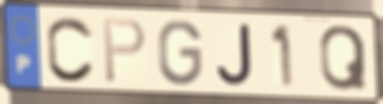1: (268, 22, 295, 90)
C: (44, 14, 97, 86)
G: (156, 17, 204, 88)
J: (214, 21, 255, 89)
P: (101, 16, 149, 86)
Q: (318, 23, 370, 94)
